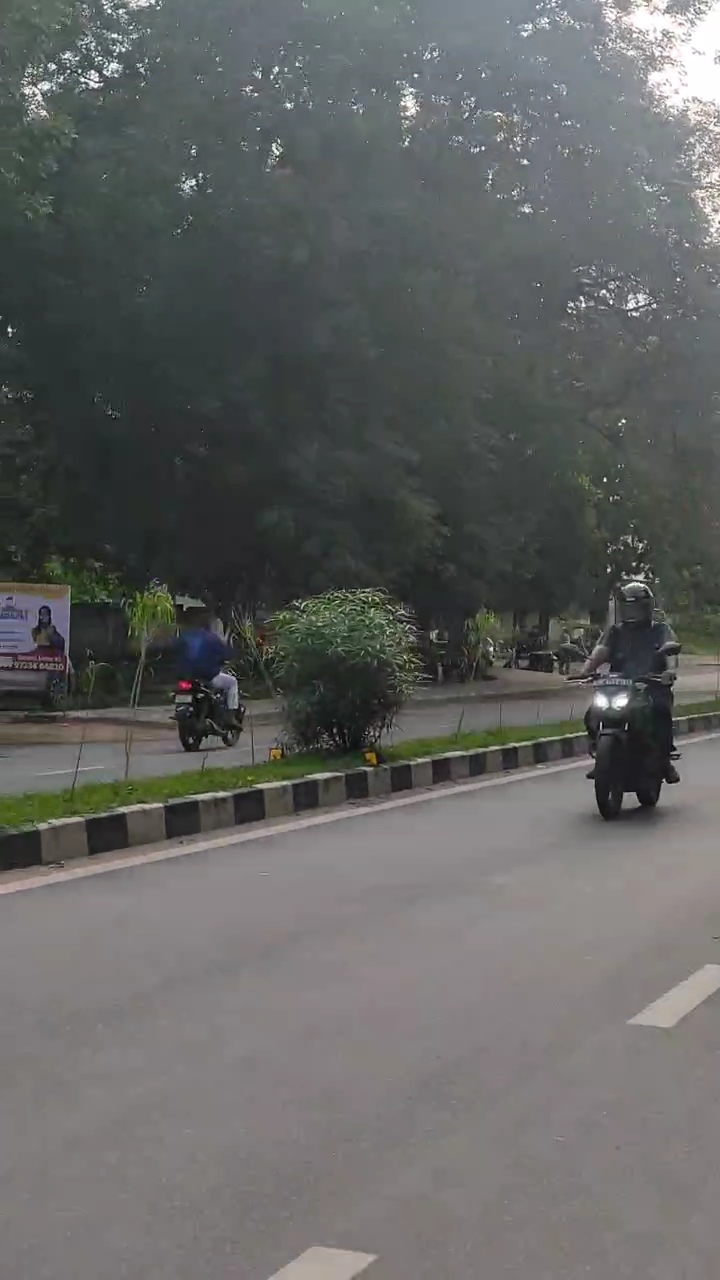BikeWithRider: (564, 582, 684, 821), (167, 611, 245, 756)
Helmet: (611, 583, 659, 634)
NoHelmet: (190, 609, 217, 636)
